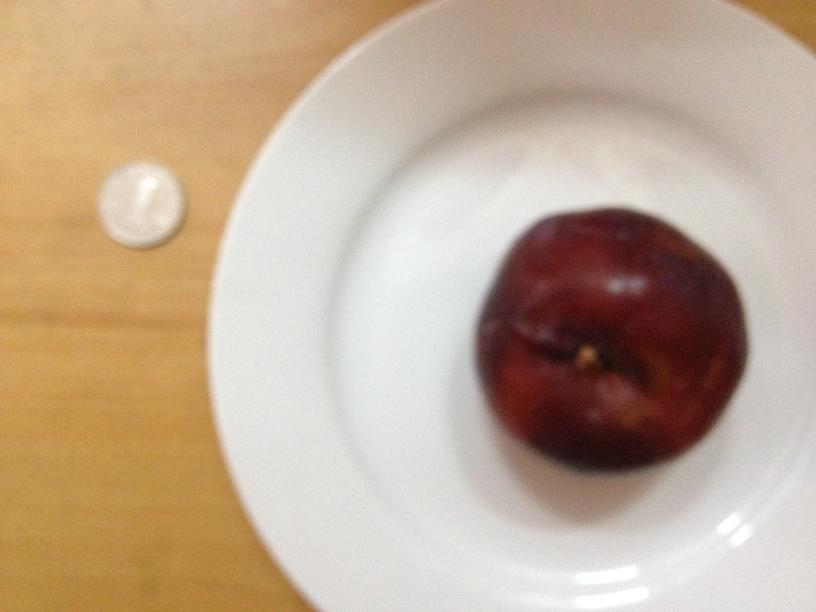coin: (94, 162, 187, 250)
plum: (482, 201, 747, 472)
